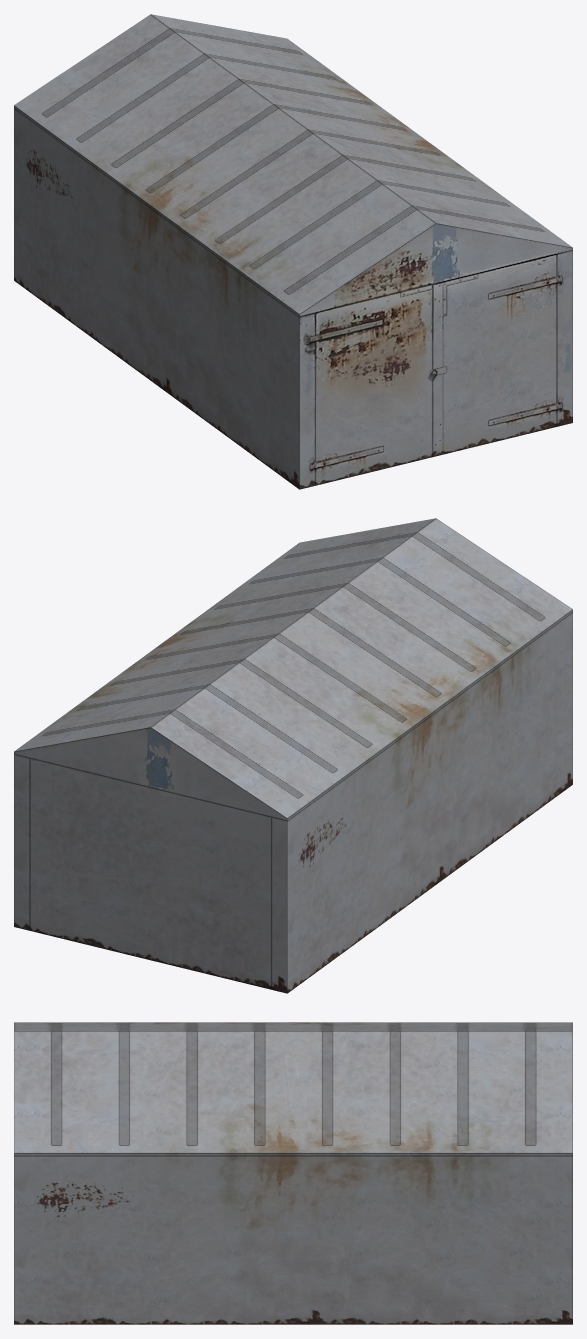
The model's file is metal_garage.obj.
The picture shows the model from 3 angles, top to bottom: view 1: azimuth 30°, elevation 25°; view 2: azimuth 150°, elevation 25°; view 3: azimuth 270°, elevation 25°; orthographic projection. The views are drawn at different scales.
Visible parts, largest first — view 1: MetalGarage0; view 2: MetalGarage0; view 3: MetalGarage0.
Part boxes in pixels (bbox=[...]): MetalGarage0: bbox=[14, 14, 572, 489]; MetalGarage0: bbox=[14, 518, 572, 993]; MetalGarage0: bbox=[14, 1022, 572, 1324].
Bounding box in the file's own units: 3.32 × 2.7 × 6.
1 material, 1 textured.
